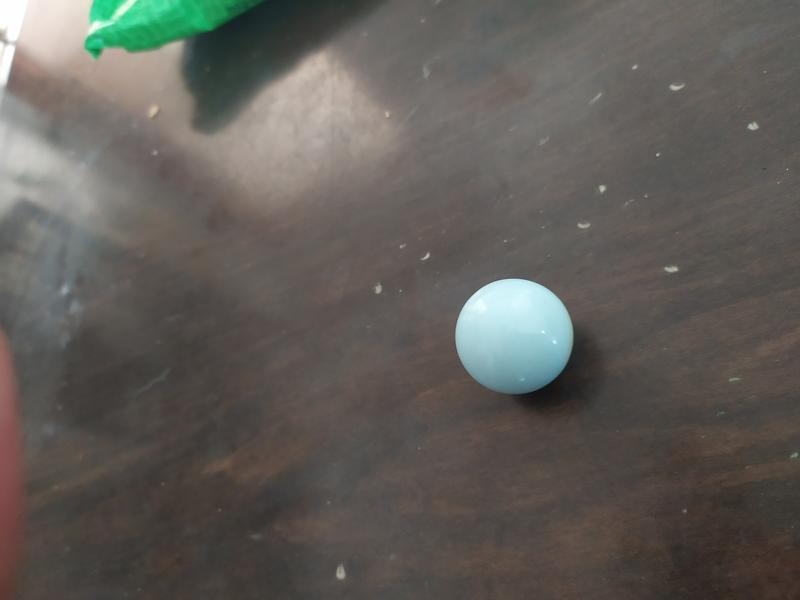Warning: (450, 275, 580, 400)
